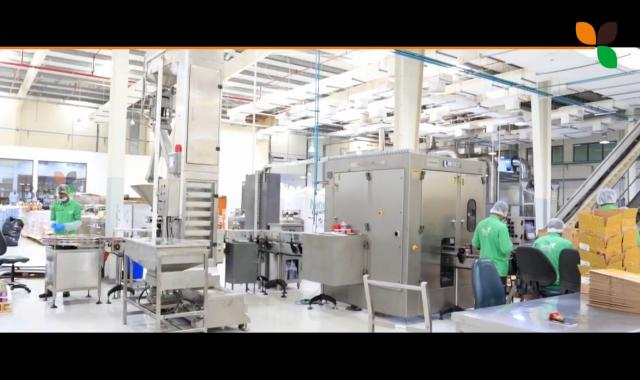hairnet: (491, 200, 510, 220), (597, 186, 616, 206), (545, 217, 566, 234), (54, 181, 70, 201)
